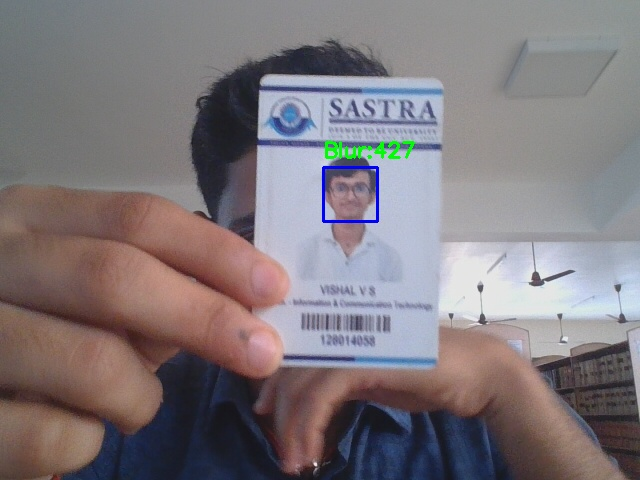fake: (323, 167, 377, 221)
